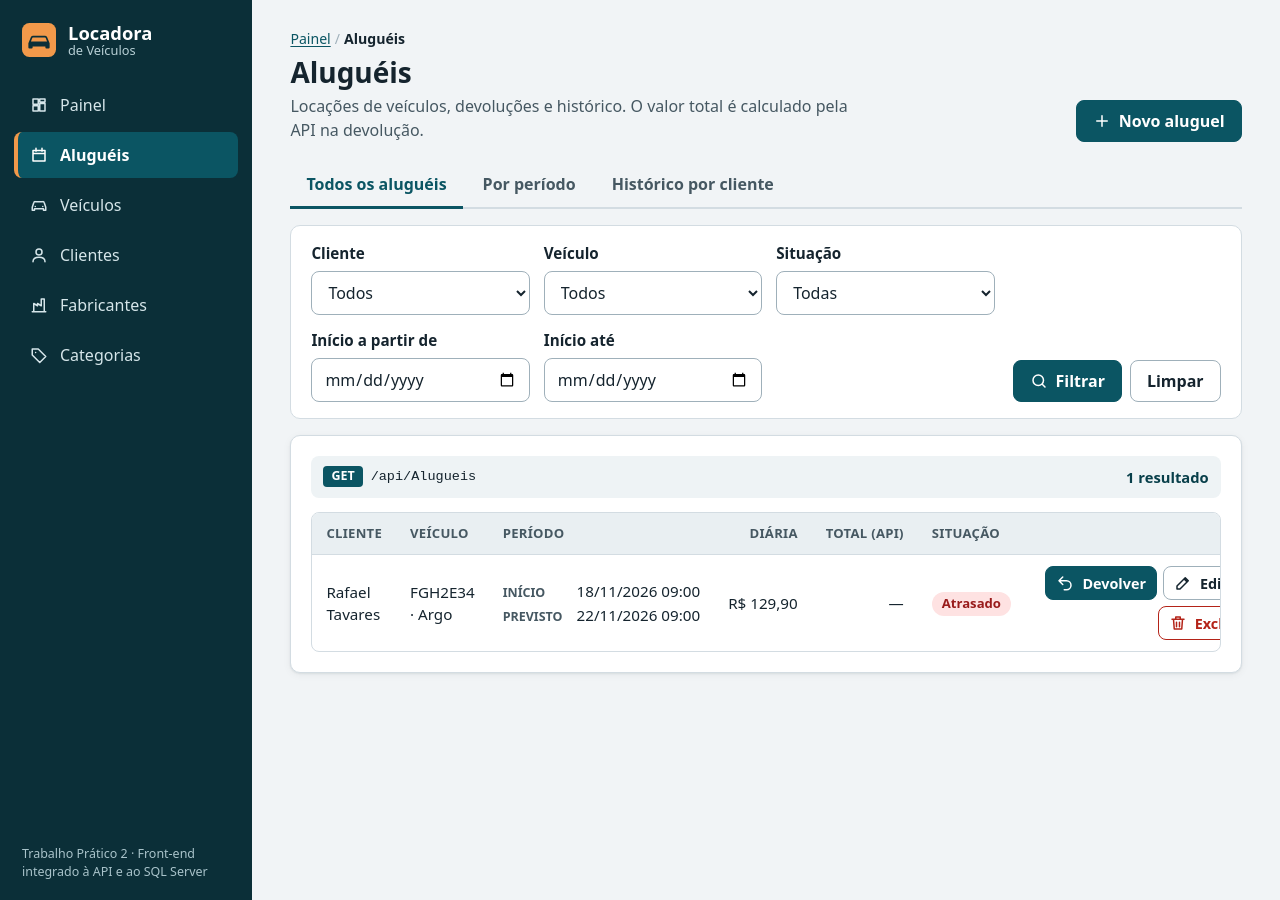
Test: Aluguéis — devolução › registra a devolução com PUT completo e exibe o total calculado pela API
Click the button with aria-label "Registrar devolução do aluguel 16" at (1101, 584), box x1=1045 y1=566 x2=1157 y2=600
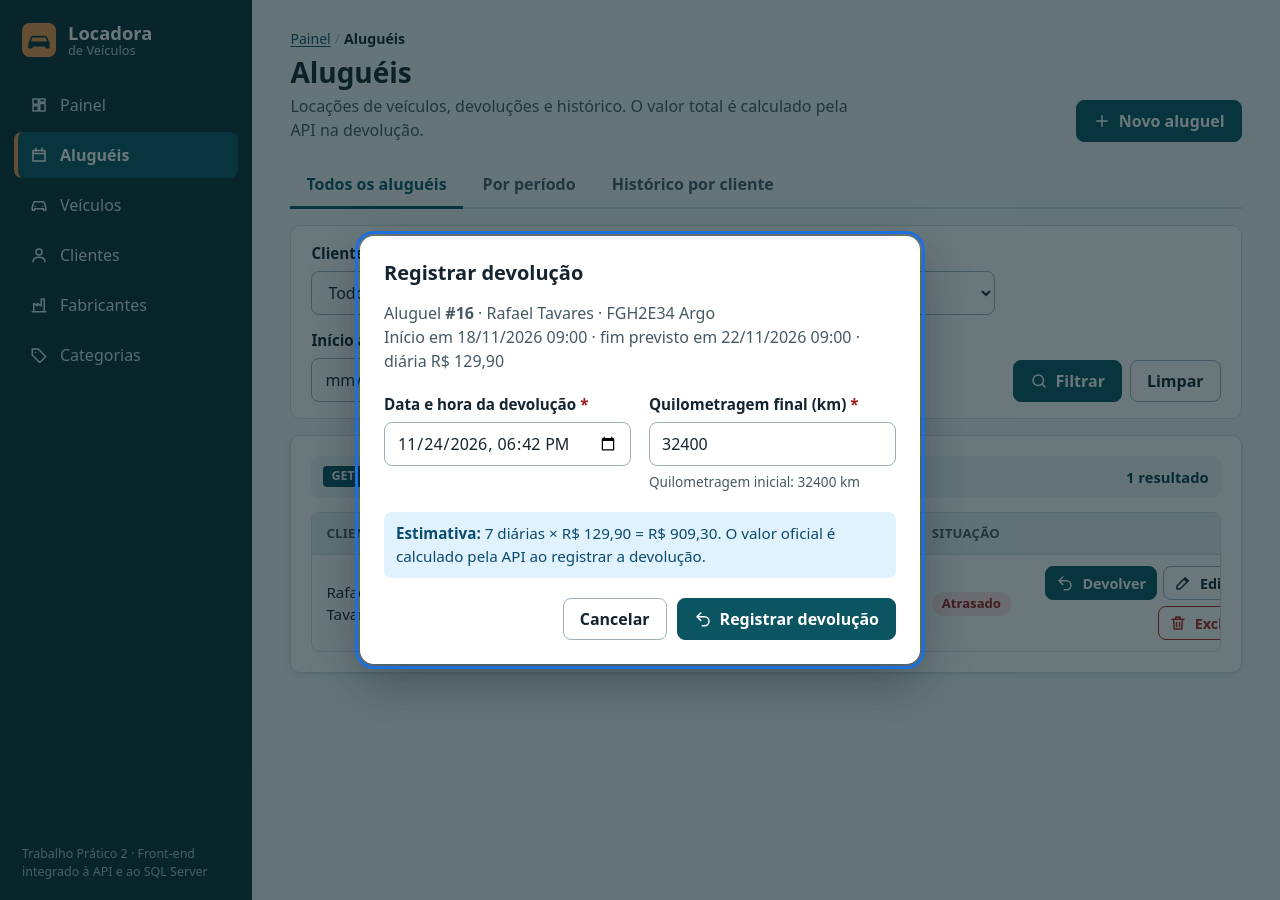
Now the number field labelled "Quilometragem final (km) *" holds "32400"
Now the text "O valor oficial é calculado pela API ao registrar a devolução" shows "Estimativa:", box x1=396 y1=523 x2=481 y2=543
Replace the text in the number field labelled "Quilometragem final (km) *" with "32850" at (772, 444), box x1=649 y1=422 x2=896 y2=466
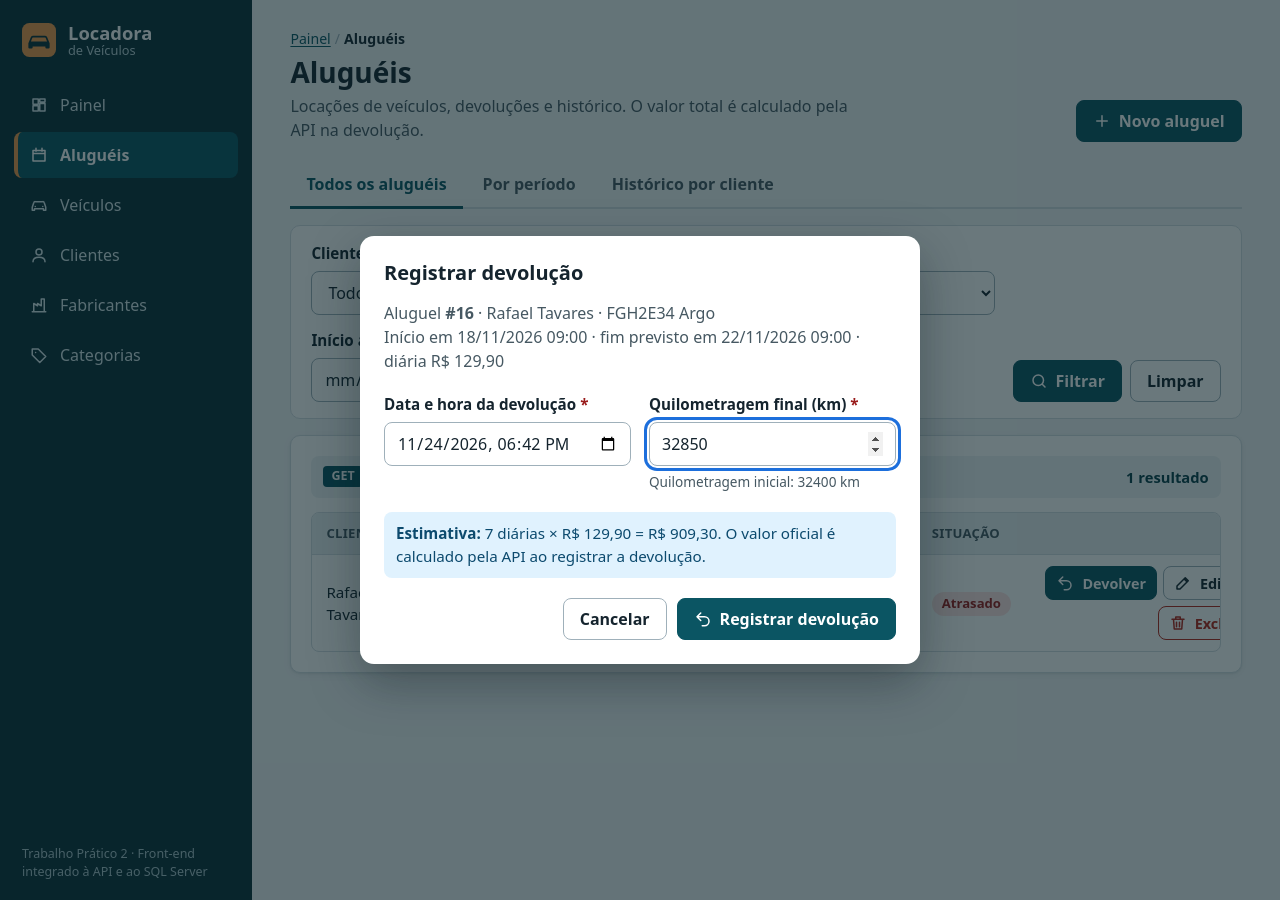
Click the button "Registrar devolução" at (786, 619), box x1=677 y1=598 x2=896 y2=640
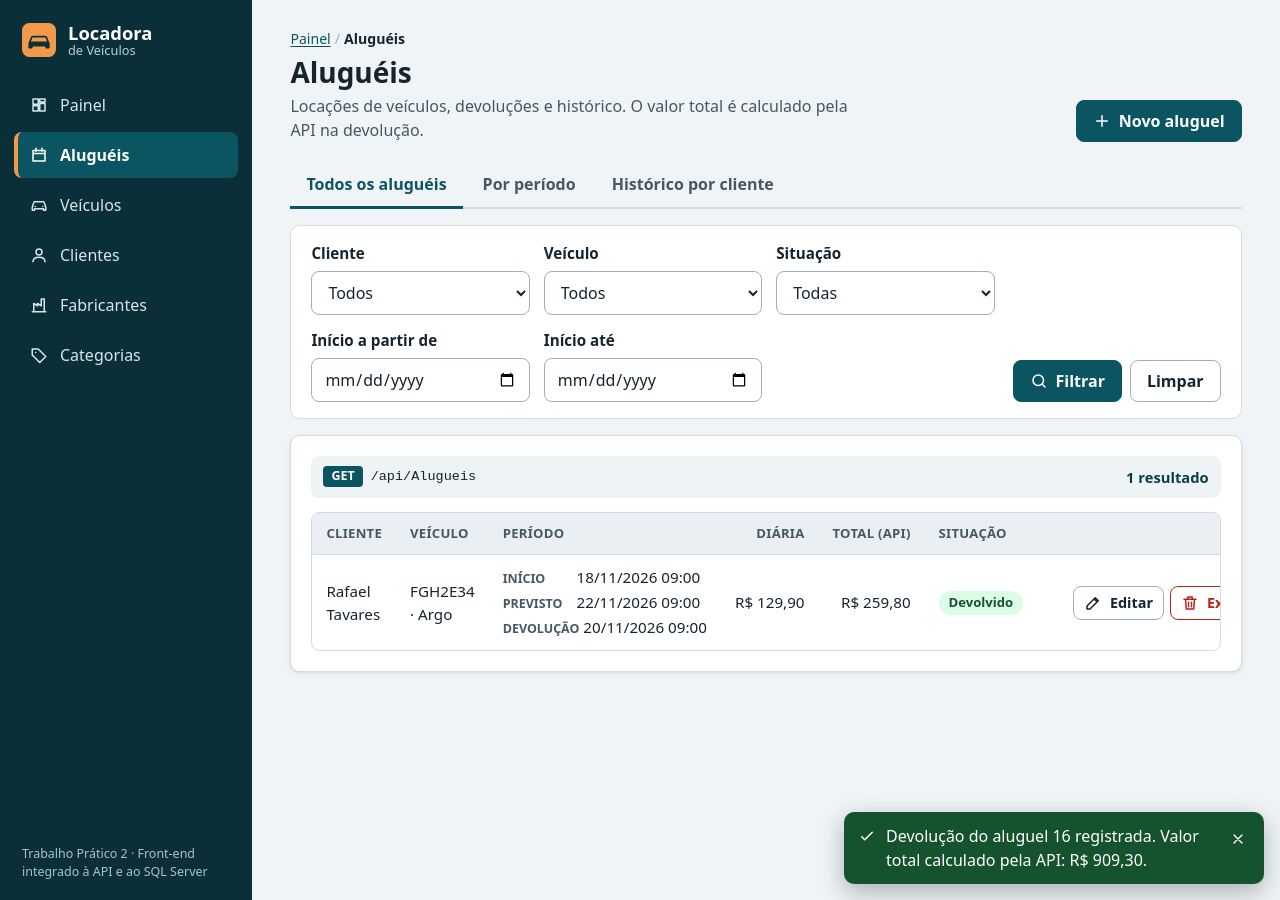
Now the dialog is gone
